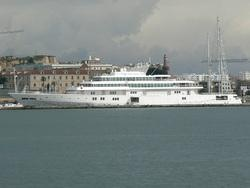yacht: (6, 14, 243, 112)
